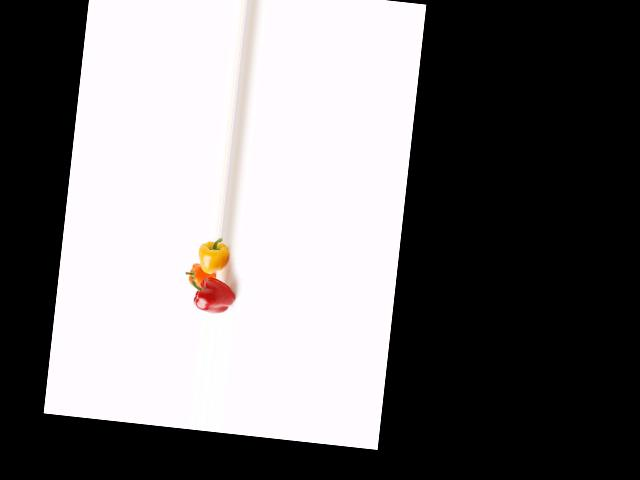bell_pepper: (183, 273, 241, 316)
